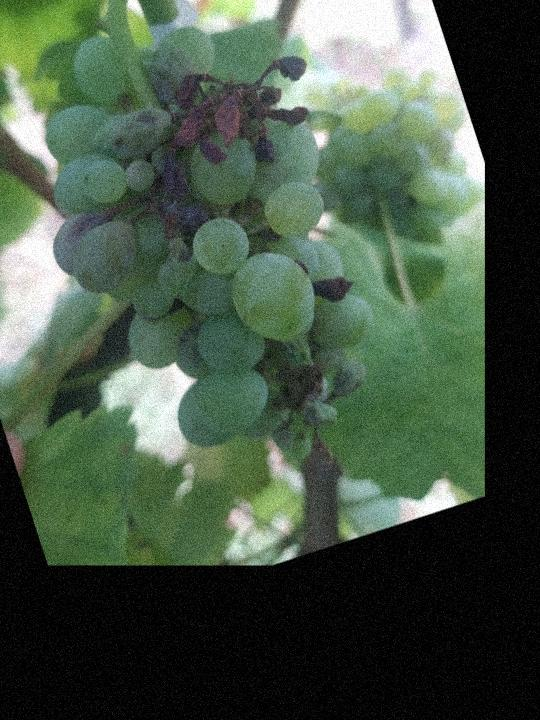grape: (0, 0, 433, 531)
